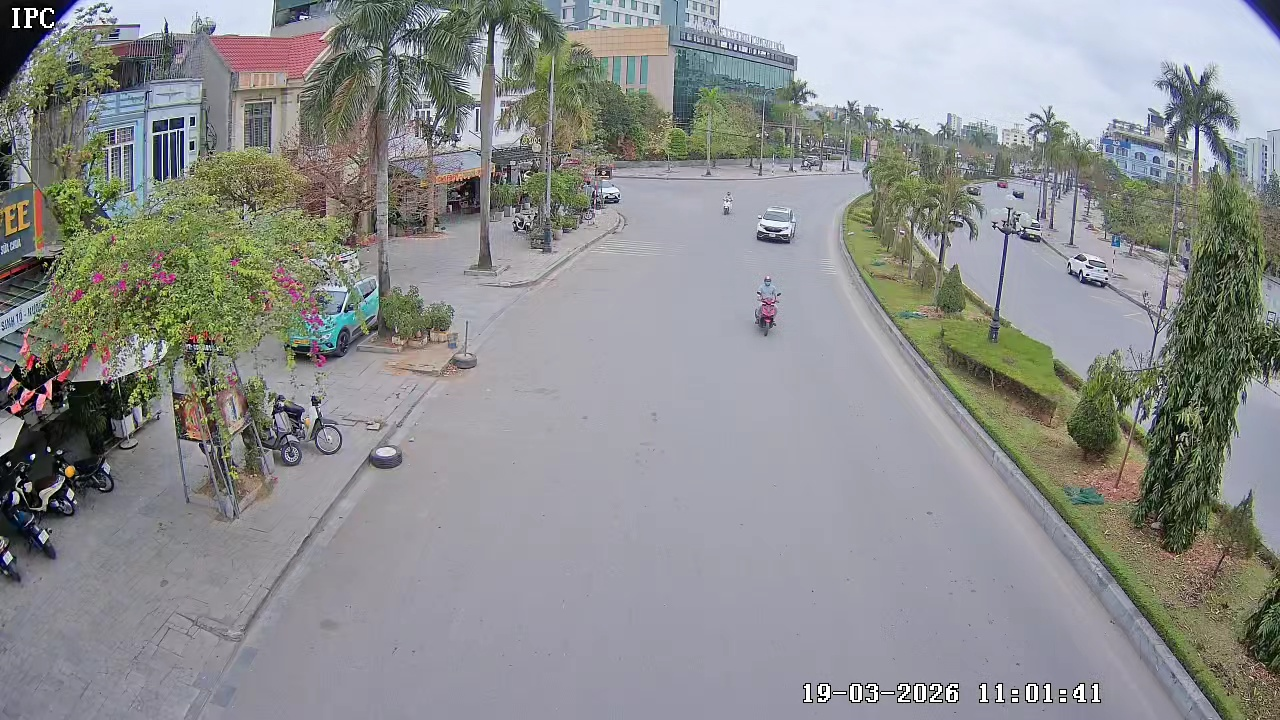bike: (263, 390, 304, 464), (305, 383, 344, 456)
car: (754, 203, 798, 244), (1066, 251, 1111, 289)
motorbike: (752, 274, 783, 338), (0, 524, 24, 585), (720, 189, 735, 216)
